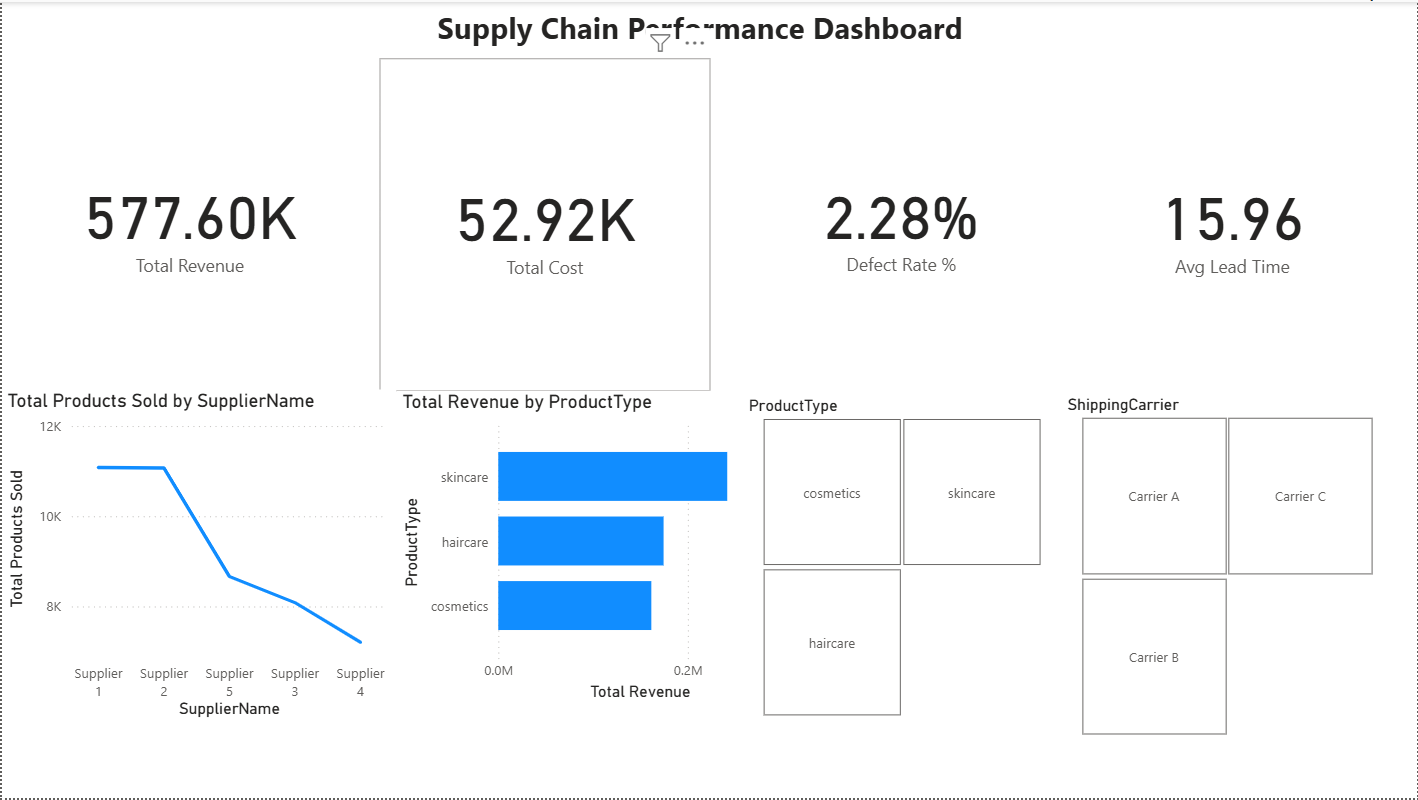

The dashboard page shown, as its layout file describes it:
{"tool":"powerbi","page":{"name":"Page 1","canvas":[1280,720],"ordinal":0},"visuals":[{"type":"textbox","box":[388.9,0,503.1,49.7],"z":0},{"type":"card","fields":{"Values":["FactSupplyChain.Total Revenue"]},"box":[20.4,49.7,299.6,299.6],"z":1000},{"type":"card","fields":{"Values":["FactSupplyChain.Total Cost"]},"box":[341.5,50.9,299.6,300.8],"z":2000},{"type":"card","fields":{"Values":["FactSupplyChain.Defect Rate %"]},"box":[663.7,48.6,299.6,300.8],"z":3000},{"type":"card","fields":{"Values":["FactSupplyChain.Avg Lead Time"]},"box":[963.3,49.7,299.6,300.8],"z":4000},{"type":"clusteredBarChart","fields":{"Category":["DimProduct.ProductType"],"Y":["FactSupplyChain.Total Revenue"]},"box":[357.2,351.2,367.9,285.2],"z":5000},{"type":"slicer","fields":{"Values":["DimShipping.ShippingCarrier"]},"box":[950.4,350,312.8,318.8],"z":6000},{"type":"lineChart","fields":{"Category":["DimSupplier.SupplierName"],"Y":["FactSupplyChain.Total Products Sold"]},"box":[0,350,357.2,302],"z":7000},{"type":"slicer","fields":{"Values":["DimProduct.ProductType"]},"box":[662.8,351.2,300.8,300.8],"z":8000}]}

Visuals, with their boxes in screenshot pixels (x1, y1, x2, y2), scaled from the page's 1280x720 canvas onto the 1418x800 screenshot:
textbox: Rect(431, 0, 988, 55)
card - FactSupplyChain.Total Revenue: Rect(23, 55, 354, 388)
card - FactSupplyChain.Total Cost: Rect(378, 57, 710, 391)
card - FactSupplyChain.Defect Rate %: Rect(735, 54, 1067, 388)
card - FactSupplyChain.Avg Lead Time: Rect(1067, 55, 1399, 389)
clusteredBarChart - DimProduct.ProductType x FactSupplyChain.Total Revenue: Rect(396, 390, 803, 707)
slicer - DimShipping.ShippingCarrier: Rect(1053, 389, 1399, 743)
lineChart - DimSupplier.SupplierName x FactSupplyChain.Total Products Sold: Rect(0, 389, 396, 724)
slicer - DimProduct.ProductType: Rect(734, 390, 1067, 724)
